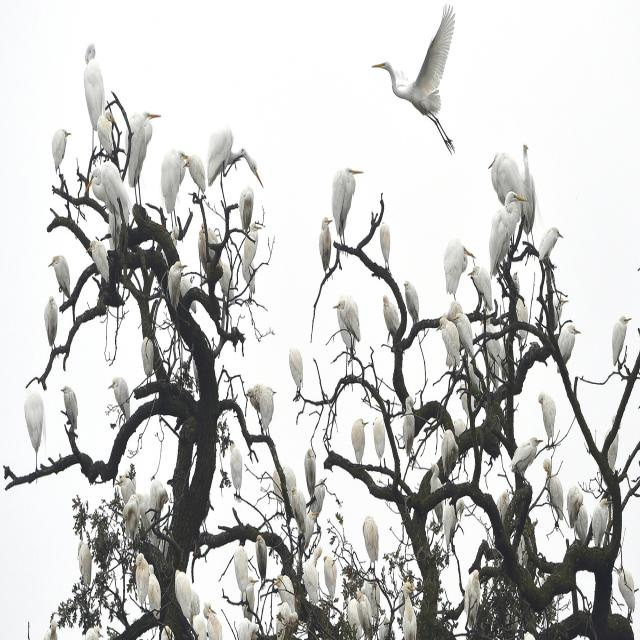bird: (362, 0, 478, 157), (87, 152, 141, 235), (116, 281, 156, 384), (206, 125, 265, 192), (482, 194, 527, 274), (125, 106, 159, 210), (330, 166, 366, 248), (517, 139, 543, 248), (19, 392, 51, 472), (443, 235, 475, 307), (82, 39, 105, 132), (246, 382, 280, 440), (159, 146, 184, 222), (332, 296, 362, 358), (484, 154, 526, 198), (458, 568, 484, 633), (510, 270, 530, 352), (553, 322, 581, 376), (46, 253, 75, 304), (242, 223, 262, 296), (436, 318, 463, 372), (480, 319, 500, 391), (610, 309, 631, 377), (509, 432, 542, 473), (542, 459, 564, 519), (441, 497, 465, 552), (566, 486, 588, 546), (540, 224, 565, 276), (302, 546, 322, 611), (199, 222, 220, 281), (538, 390, 558, 451), (51, 123, 72, 181), (468, 265, 493, 312), (232, 544, 250, 608), (86, 239, 110, 285), (401, 579, 419, 640), (183, 149, 206, 196), (167, 261, 187, 314), (362, 515, 380, 572), (618, 566, 637, 620), (317, 215, 334, 273), (216, 257, 236, 306), (44, 292, 59, 357), (593, 493, 611, 547), (75, 541, 94, 592), (404, 279, 421, 335), (134, 553, 150, 612), (456, 312, 476, 359), (403, 393, 417, 460), (428, 461, 442, 528), (439, 429, 457, 481), (149, 477, 166, 532), (228, 444, 243, 505), (95, 113, 116, 156), (122, 494, 139, 547), (287, 346, 305, 395), (605, 414, 621, 468), (289, 486, 307, 534), (271, 570, 296, 604), (60, 385, 78, 432), (174, 566, 192, 613), (381, 293, 400, 336), (147, 565, 162, 619), (240, 182, 256, 232), (351, 418, 367, 467), (304, 448, 318, 503), (455, 385, 479, 416), (357, 587, 371, 640), (202, 603, 222, 640), (323, 554, 338, 603), (270, 468, 284, 520), (253, 535, 267, 586), (273, 605, 298, 633), (372, 418, 386, 467), (379, 222, 392, 271), (315, 474, 327, 523), (303, 510, 316, 548), (190, 614, 207, 638), (114, 474, 132, 496), (378, 615, 393, 640), (498, 491, 510, 519), (82, 625, 104, 640), (553, 298, 569, 318), (170, 226, 182, 251), (44, 621, 60, 639), (282, 464, 296, 484)
